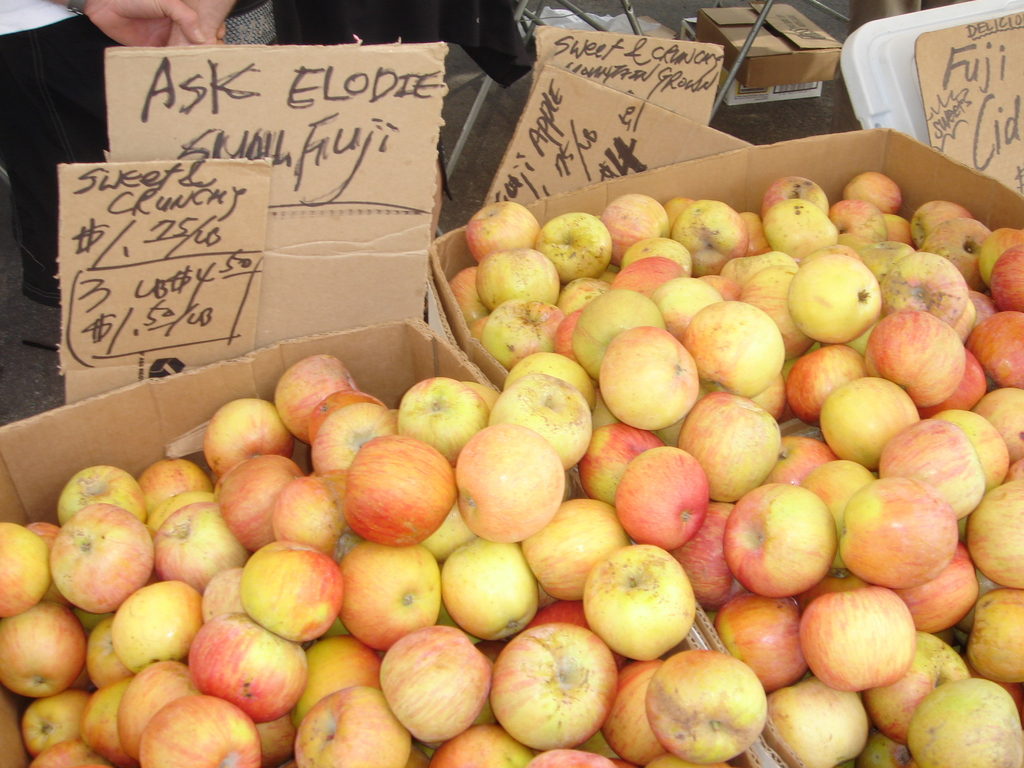Apple: (0, 166, 1022, 767), (718, 478, 835, 599)
